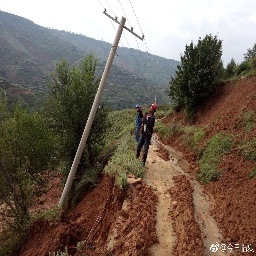person: (140, 102, 157, 166), (133, 103, 144, 145)
